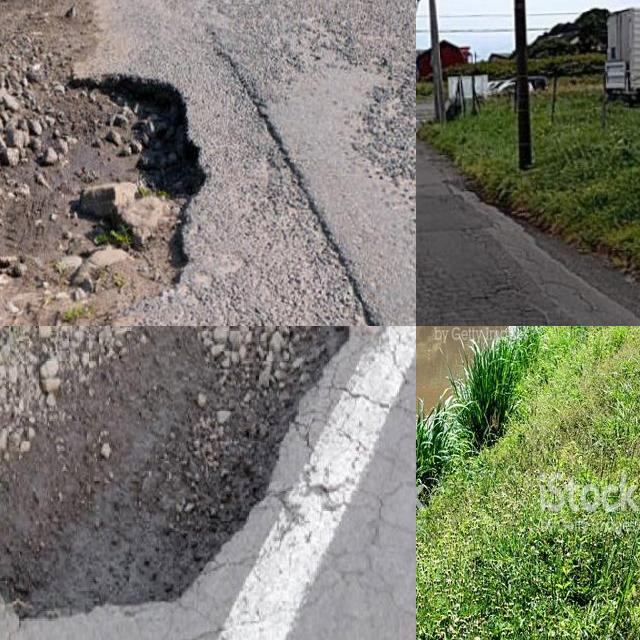Pinggir: (0, 326, 383, 638), (6, 58, 227, 326)
